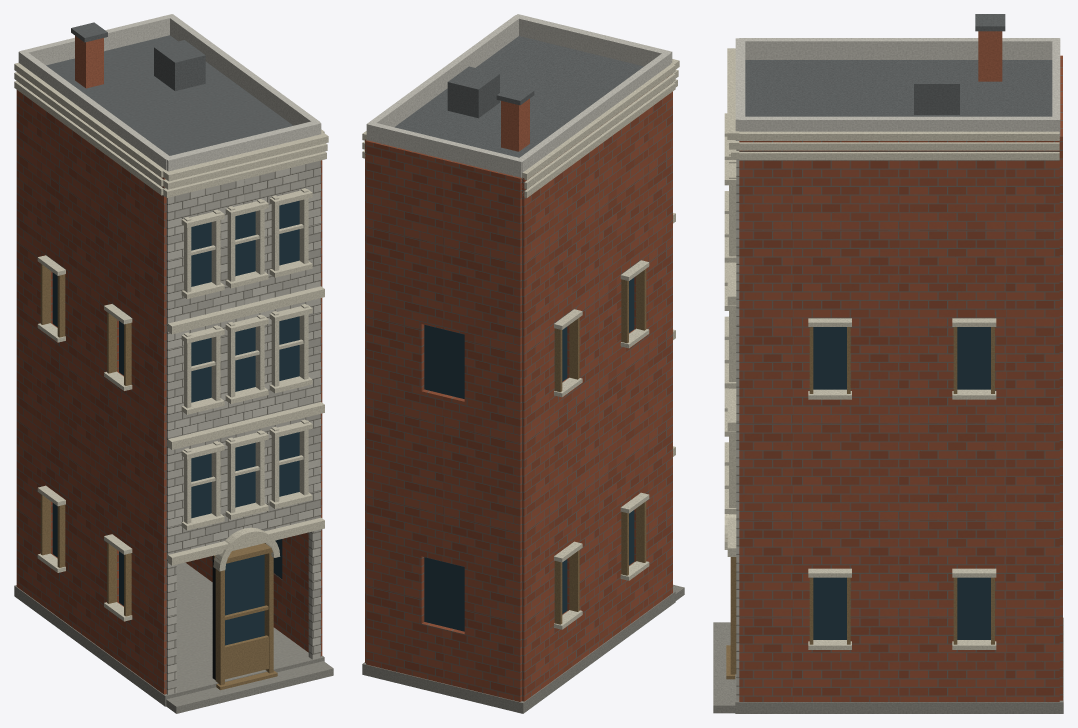
The model's file is OFFC15_lod2.glb.
The picture shows the model from 3 angles, left to right: view 1: azimuth 30°, elevation 25°; view 2: azimuth 150°, elevation 25°; view 3: azimuth 270°, elevation 25°; orthographic projection. The views are drawn at different scales.
Visible parts, largest first — view 1: OFFC15_LOD2; view 2: OFFC15_LOD2; view 3: OFFC15_LOD2.
Boxes of the visible parts, x1,y1,x2,y2 form: OFFC15_LOD2: (14, 14, 333, 713); OFFC15_LOD2: (362, 14, 684, 713); OFFC15_LOD2: (713, 14, 1063, 713).
Bounding box in the file's own units: 4.11 × 13.05 × 6.57.
Materials: 10 (8 with a texture image).
